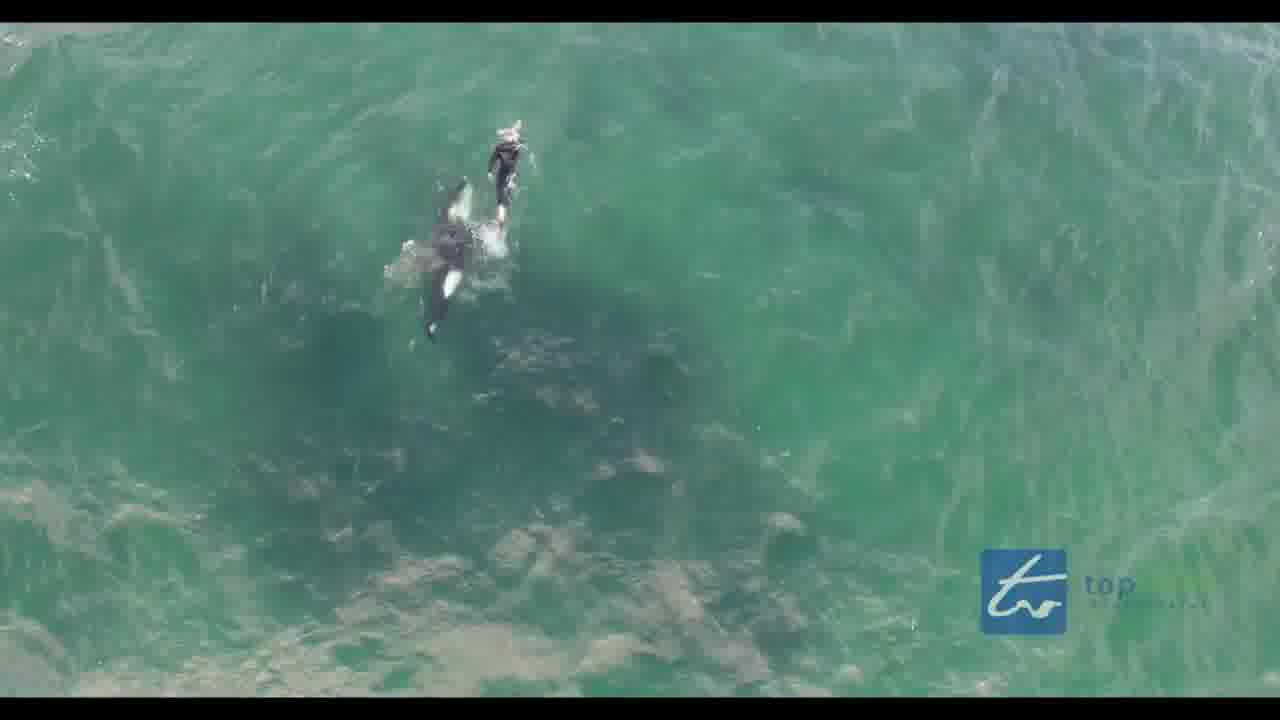human: (485, 123, 531, 223)
